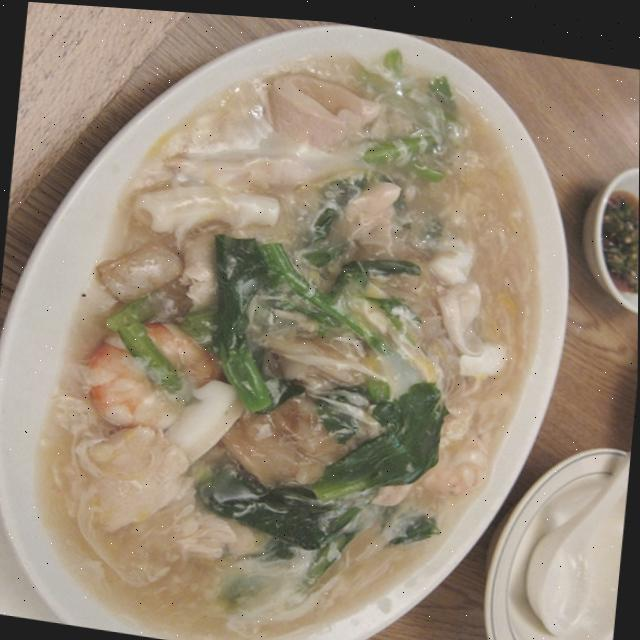面条主食: (0, 2, 624, 640)
